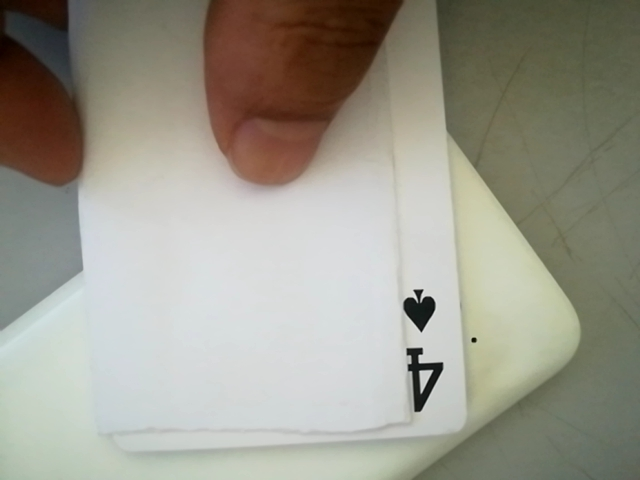ht 4: (385, 274, 465, 428)
